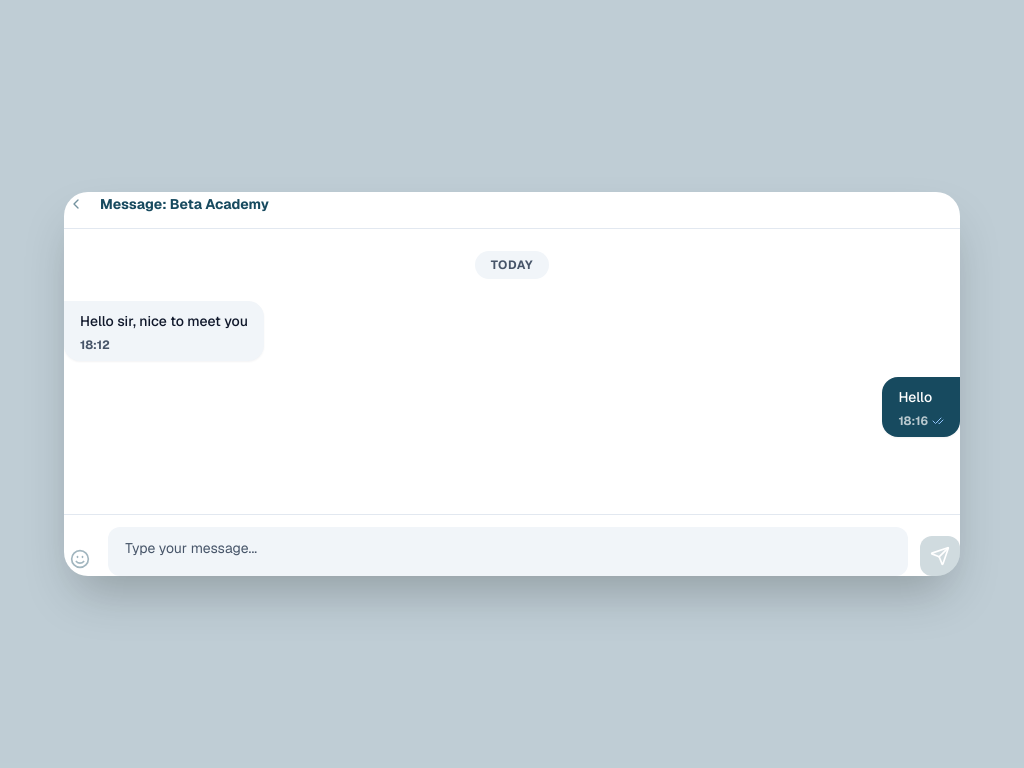
it: MessageModal › pads the timestamp to HH:mm
The image size is (1024, 768).
Type "hello" into the text box labelled "message" at (508, 548), box top-left (125, 538), bottom-right (891, 558)
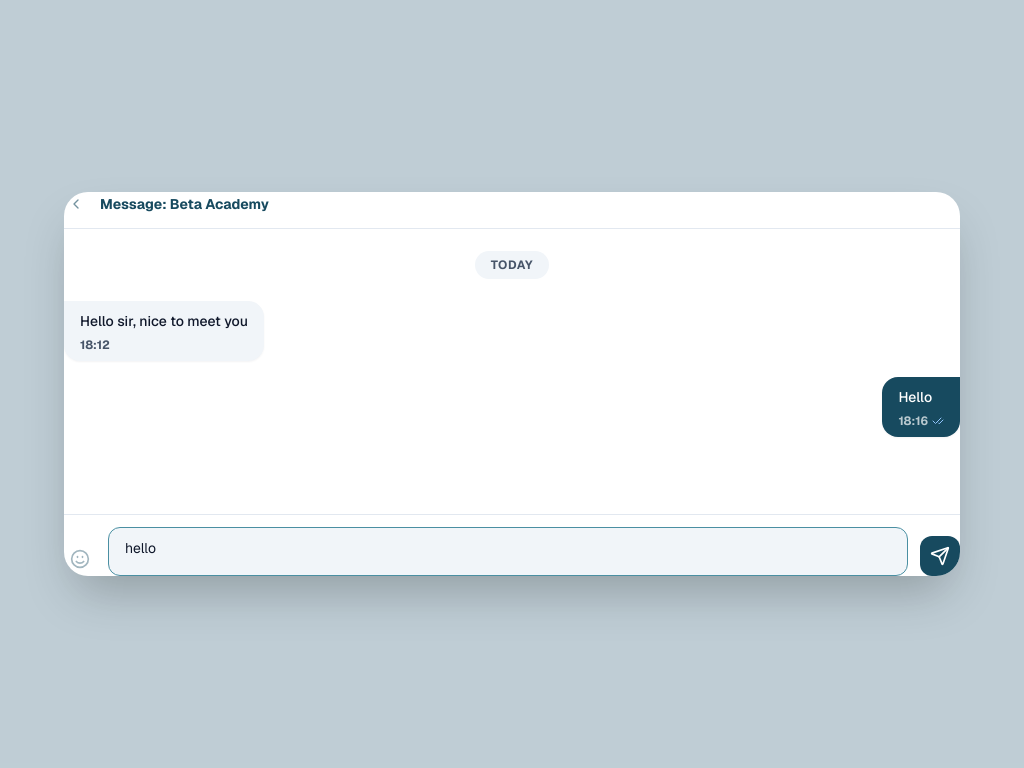
Click the button named "Send message" at (940, 556), box top-left (920, 536), bottom-right (960, 576)
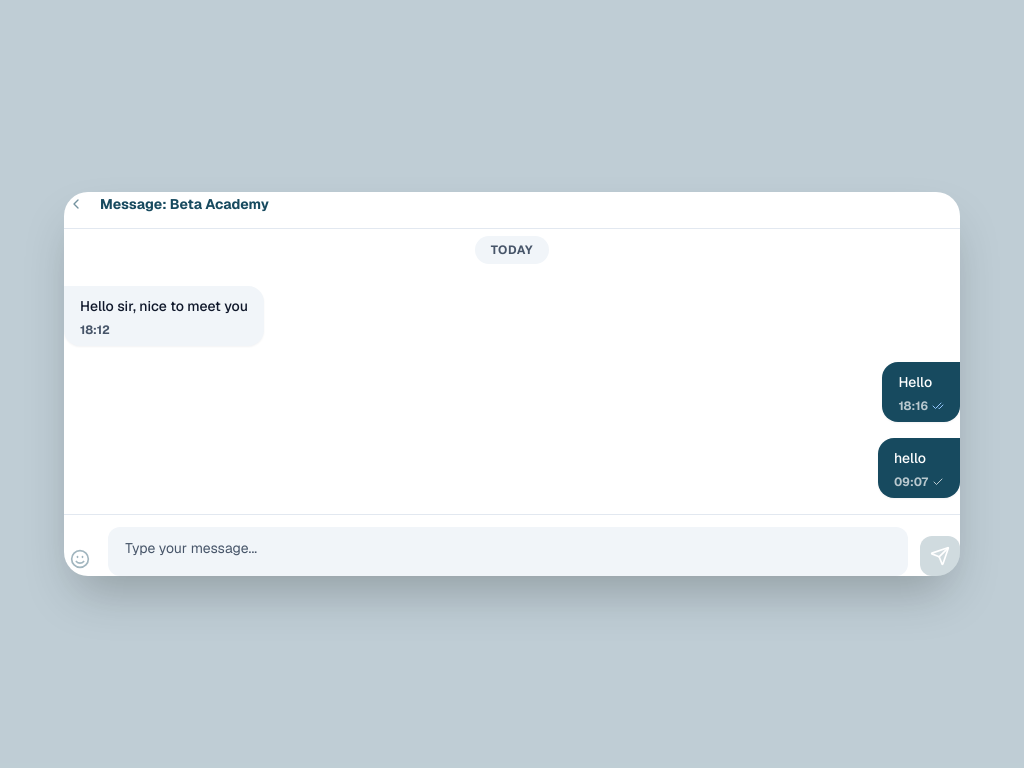
Expected: the text "09:07" is shown, top-left (894, 474), bottom-right (928, 490)
